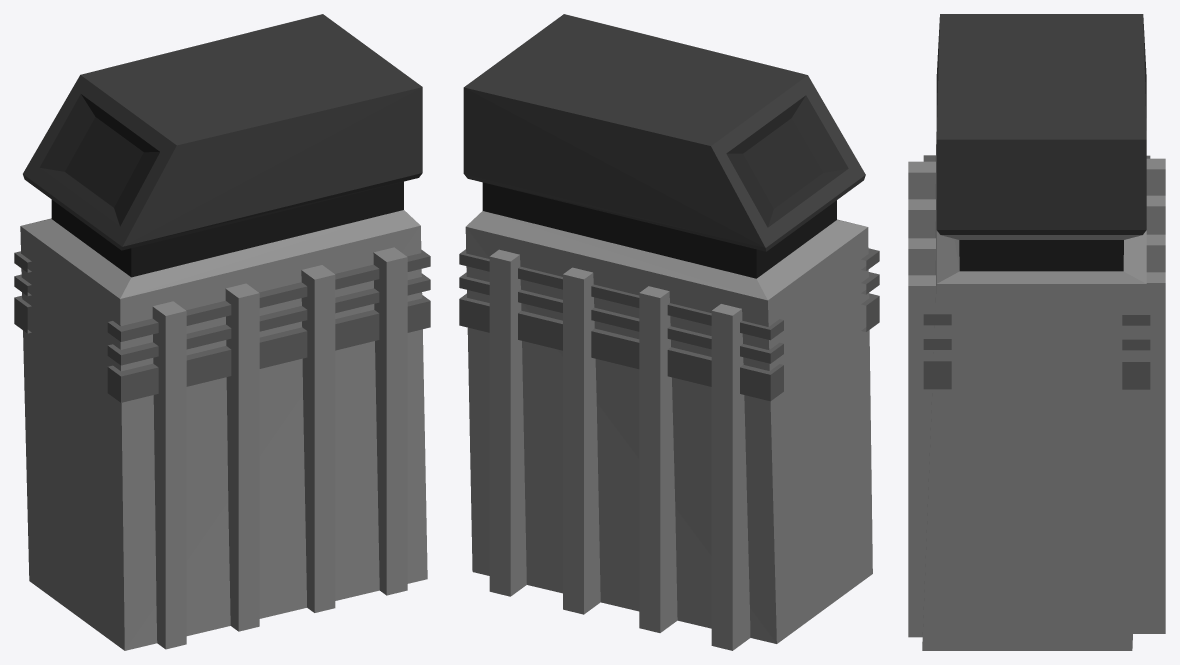
Rendered from building_D.FBX.
3 views of the same model, side by side, from view 1: azimuth 30°, elevation 25°; view 2: azimuth 150°, elevation 25°; view 3: azimuth 270°, elevation 25° (orthographic). The views are drawn at different scales.
Visible parts, largest first — view 1: factory_building_D; view 2: factory_building_D; view 3: factory_building_D.
Boxes of the visible parts, bbox=[...] form: factory_building_D: bbox=[14, 14, 430, 650]; factory_building_D: bbox=[459, 14, 879, 650]; factory_building_D: bbox=[908, 14, 1165, 650].
Size of the model in its own units: 1190 by 1782 by 811.
